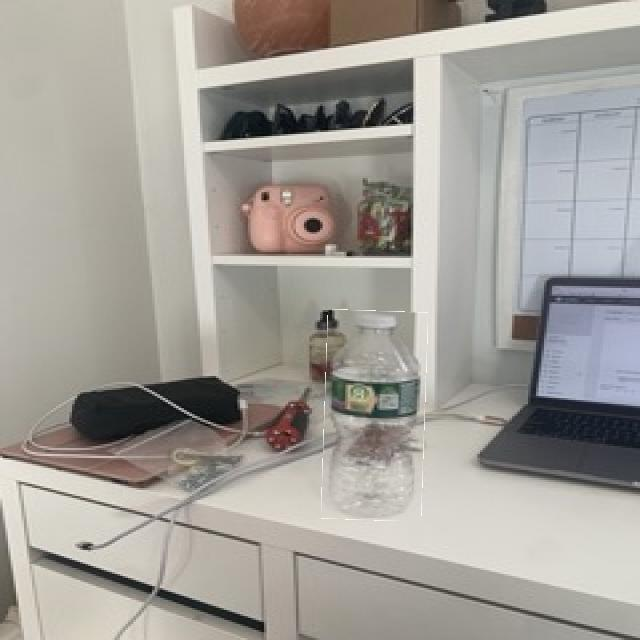water_bottle: (323, 310, 426, 521)
